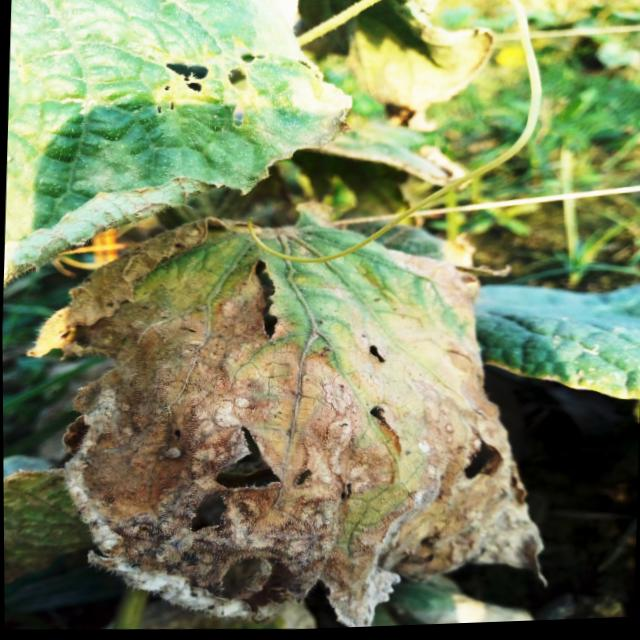Anthracnose: (186, 420, 286, 540), (148, 40, 270, 119), (249, 244, 288, 343), (460, 433, 506, 485)
